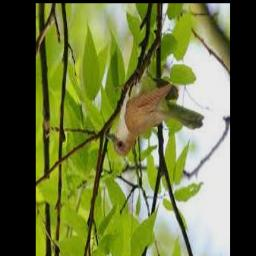Cuckoo: (106, 79, 204, 157)
